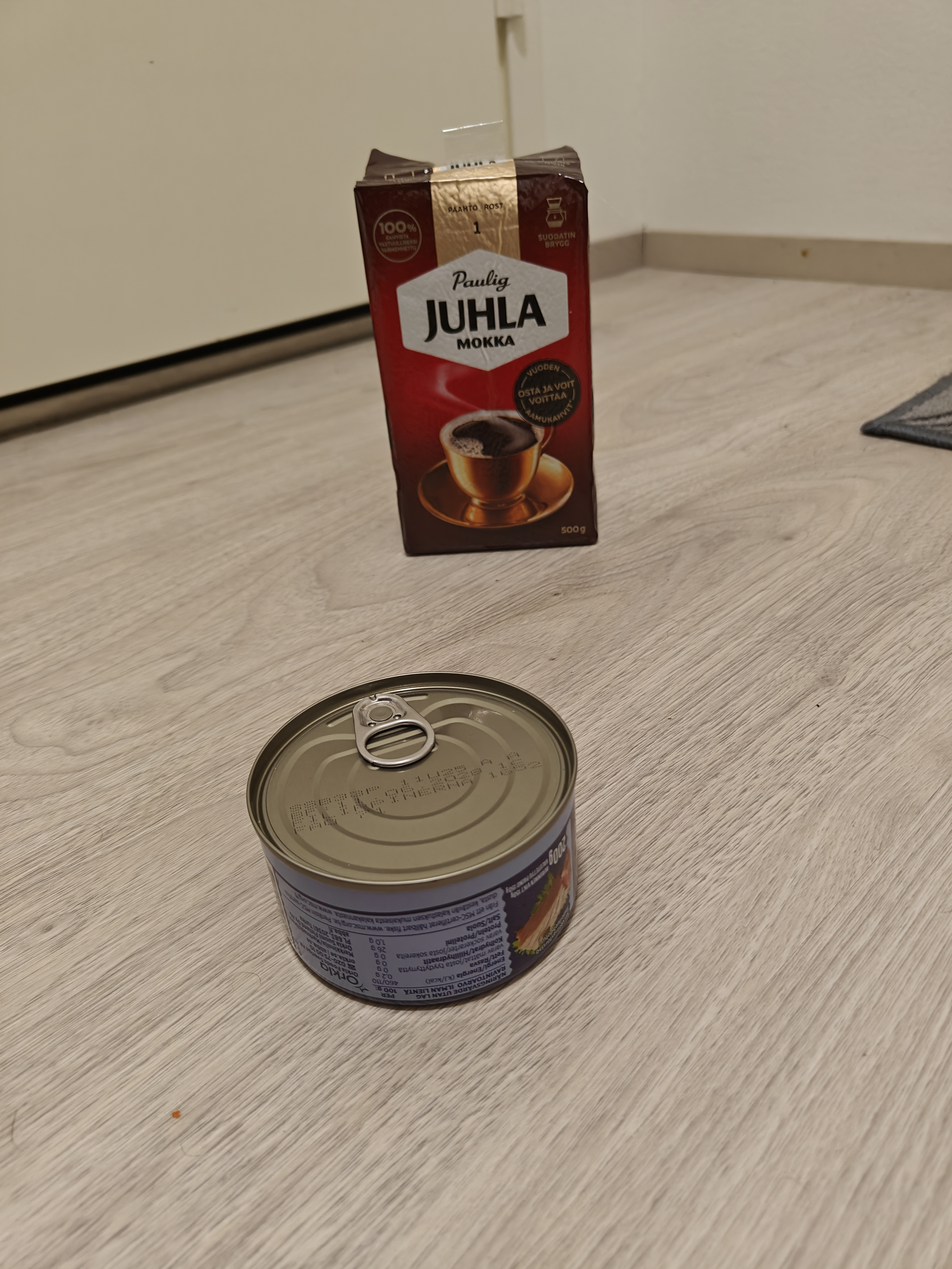Konservburk: (247, 672, 578, 1010)
